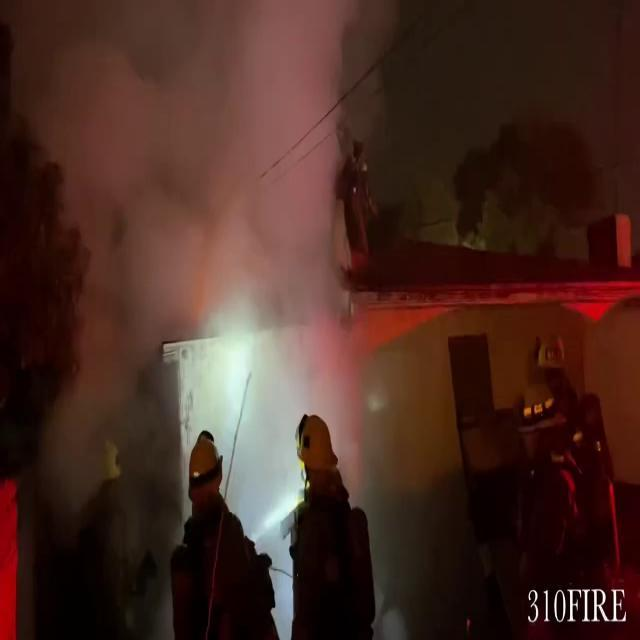Smoke: (1, 0, 373, 350)
